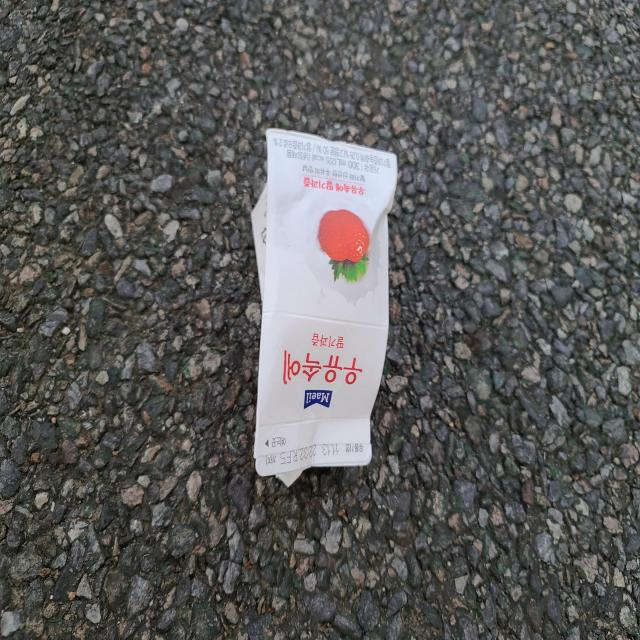paperpack: (253, 128, 397, 483)
